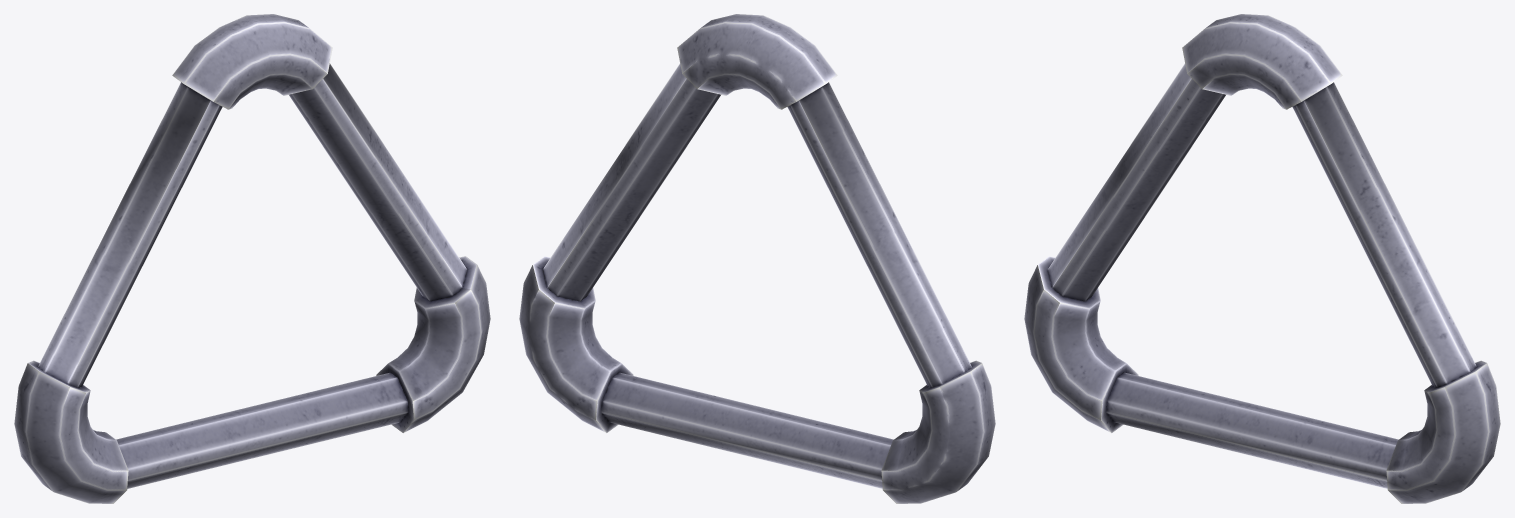
The model's file is SignFrame_hazard.fbx.
3 renders of one model, left to right at view 1: azimuth 30°, elevation 25°; view 2: azimuth 150°, elevation 25°; view 3: azimuth 330°, elevation 25°, orthographic.
Visible parts, largest first — view 1: Polygonal_Geometry; view 2: Polygonal_Geometry; view 3: Polygonal_Geometry.
Part boxes in pixels (x1,y1,x2,y2): Polygonal_Geometry: [14, 14, 490, 503]; Polygonal_Geometry: [519, 14, 995, 503]; Polygonal_Geometry: [1024, 14, 1500, 503].
Size of the model in its own units: 5.41 by 4.95 by 0.7316.
